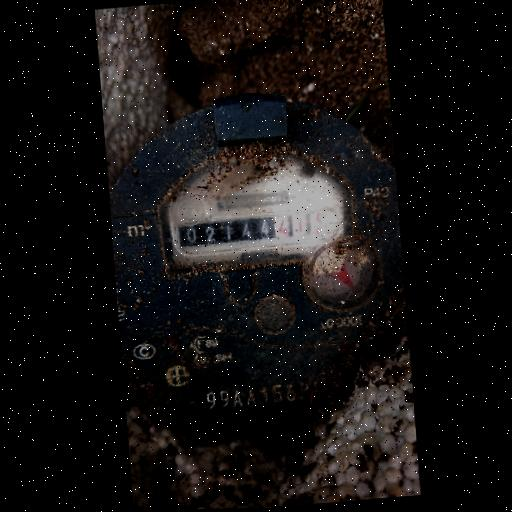0: (182, 225, 199, 247)
1: (222, 221, 237, 243), (296, 215, 307, 236)
2: (201, 222, 219, 245)
4: (309, 210, 327, 234), (238, 219, 254, 241), (258, 218, 273, 239), (277, 216, 290, 237)
border_water_meter_number: (174, 207, 340, 255)
